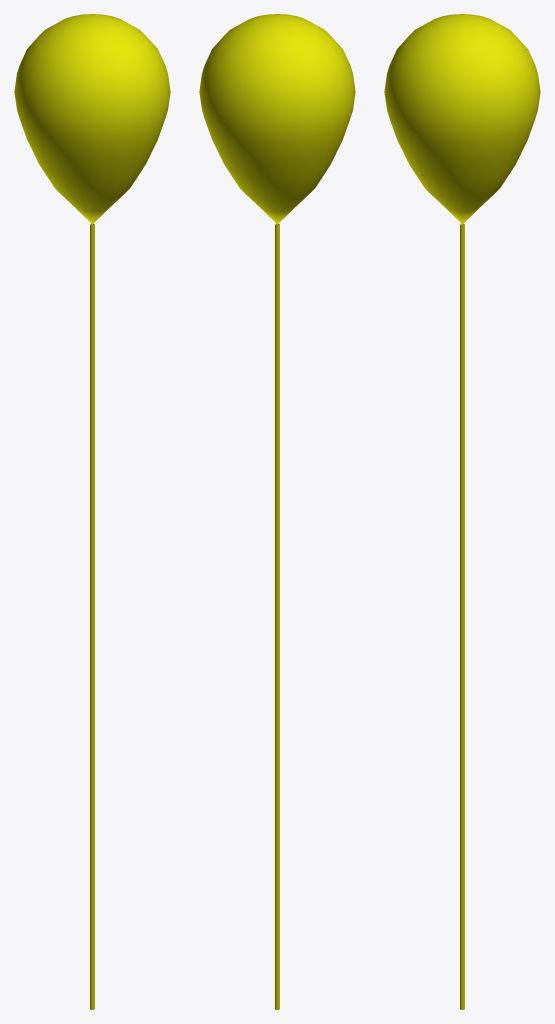
The model's file is Balloon4.5m.dae.
The picture shows the model from 3 angles, left to right: view 1: azimuth 30°, elevation 25°; view 2: azimuth 150°, elevation 25°; view 3: azimuth 270°, elevation 25°; orthographic projection.
Parts seen in each view (by area): view 1: Balloon4_5m; view 2: Balloon4_5m; view 3: Balloon4_5m.
Boxes of the visible parts, x1,y1,x2,y2 form: Balloon4_5m: [14, 14, 170, 1009]; Balloon4_5m: [199, 14, 355, 1009]; Balloon4_5m: [384, 14, 540, 1009].
Size of the model in its own units: 0.632 by 0.632 by 4.41.
